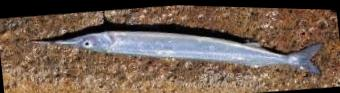fish: (35, 28, 324, 71)
